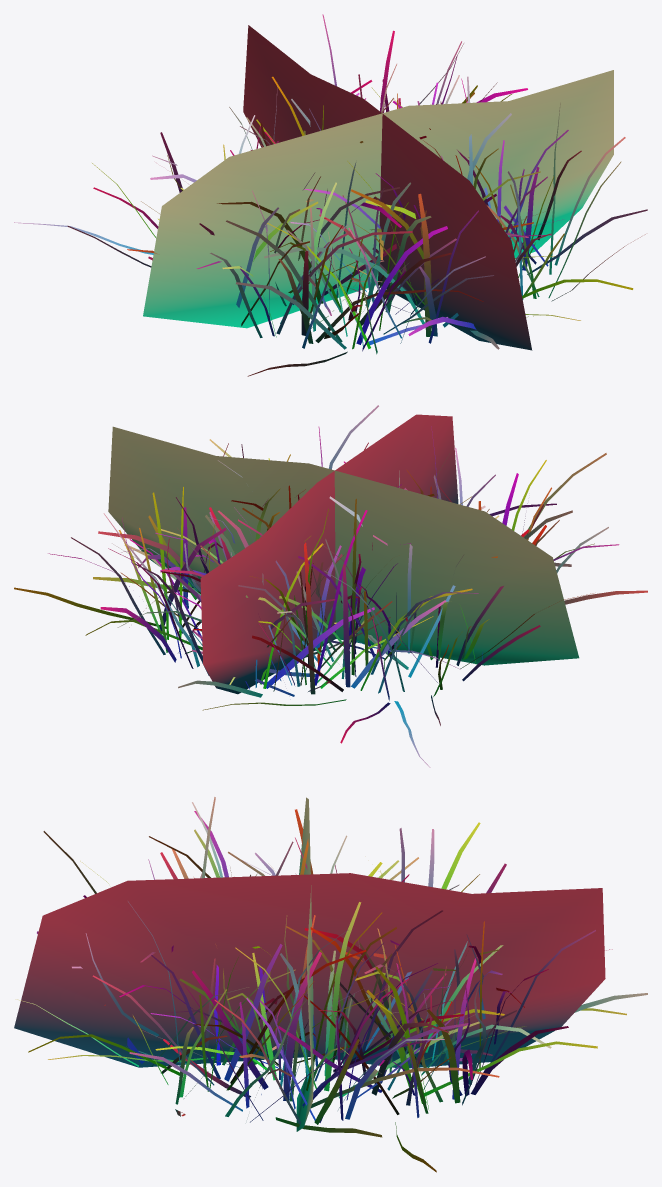
Rendered from Wild_Grass_vlkhcbxia_Low_vlkhcbxia_VarC_LOD0.fbx.
3 renders of one model, top to bottom at view 1: azimuth 30°, elevation 25°; view 2: azimuth 150°, elevation 25°; view 3: azimuth 270°, elevation 25°, orthographic. The views are drawn at different scales.
Parts seen in each view (by area): view 1: _5kn0_VarC_LOD2; view 2: _5kn0_VarC_LOD2; view 3: _5kn0_VarC_LOD2.
Boxes of the visible parts, <box> form: _5kn0_VarC_LOD2: <box>14,14,647,376</box>; _5kn0_VarC_LOD2: <box>14,405,647,767</box>; _5kn0_VarC_LOD2: <box>14,797,647,1172</box>.
Bounding box in the file's own units: 49.64 × 15.73 × 47.65.
